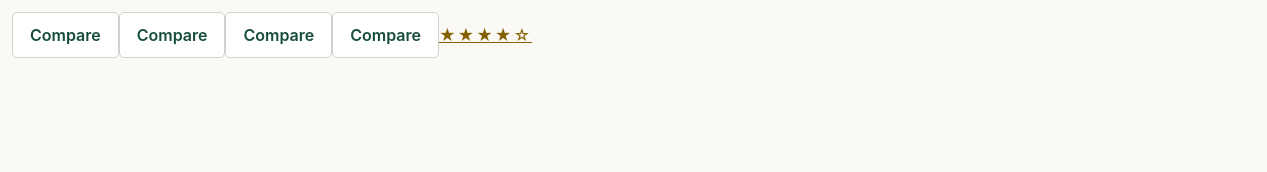
Test case: comparison refuses a fourth vehicle and verified stars link to the publisher
Click the 1st button "Compare": (65, 35) top-left (12, 12), bottom-right (119, 58)
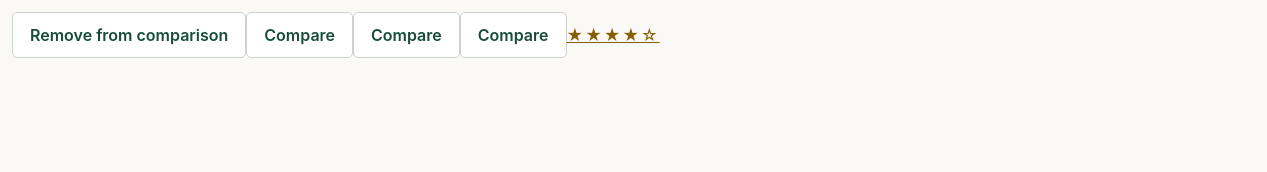
Click the 1st button "Compare": (300, 35) top-left (246, 12), bottom-right (353, 58)
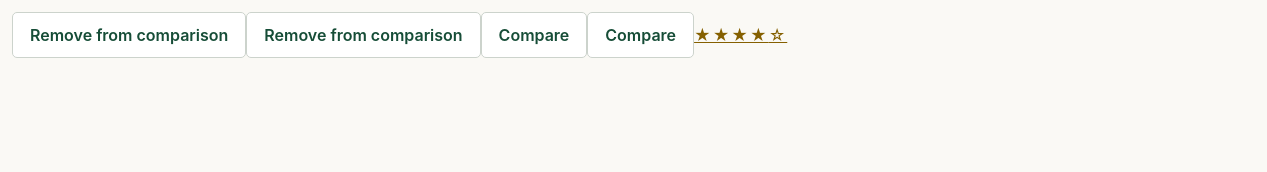
Click the 1st button "Compare": (534, 35) top-left (481, 12), bottom-right (587, 58)
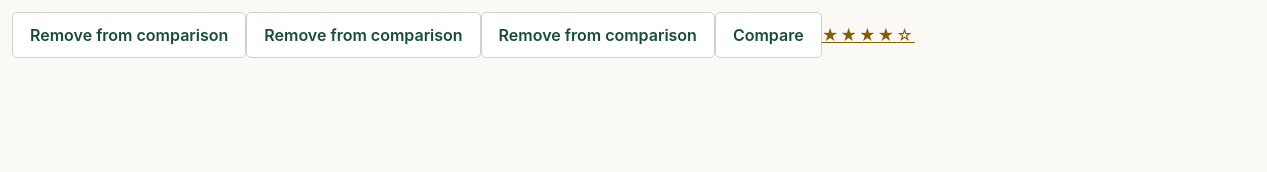
Click the button "Compare": (768, 35) top-left (715, 12), bottom-right (822, 58)
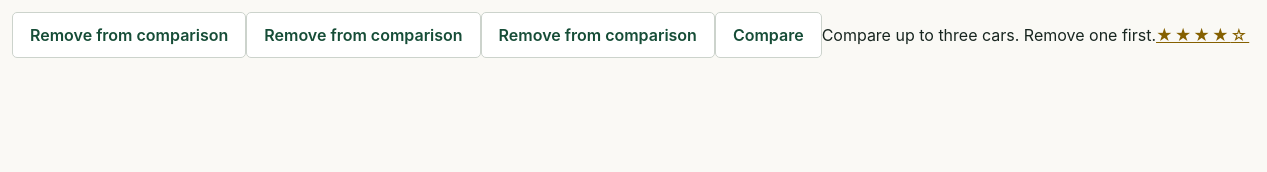
Check: the number of buttons "Remove from comparison" is 3, box top-left (12, 12), bottom-right (246, 58); top-left (246, 12), bottom-right (481, 58); top-left (481, 12), bottom-right (715, 58)
Check: the message shows "Compare up to three", box top-left (822, 25), bottom-right (1156, 45)
